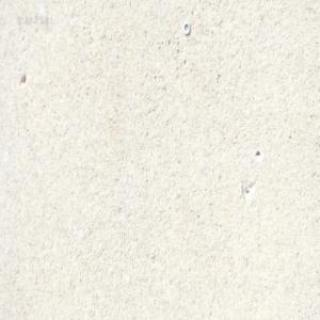Washertrack_idkeyframe: (182, 20, 190, 35)
